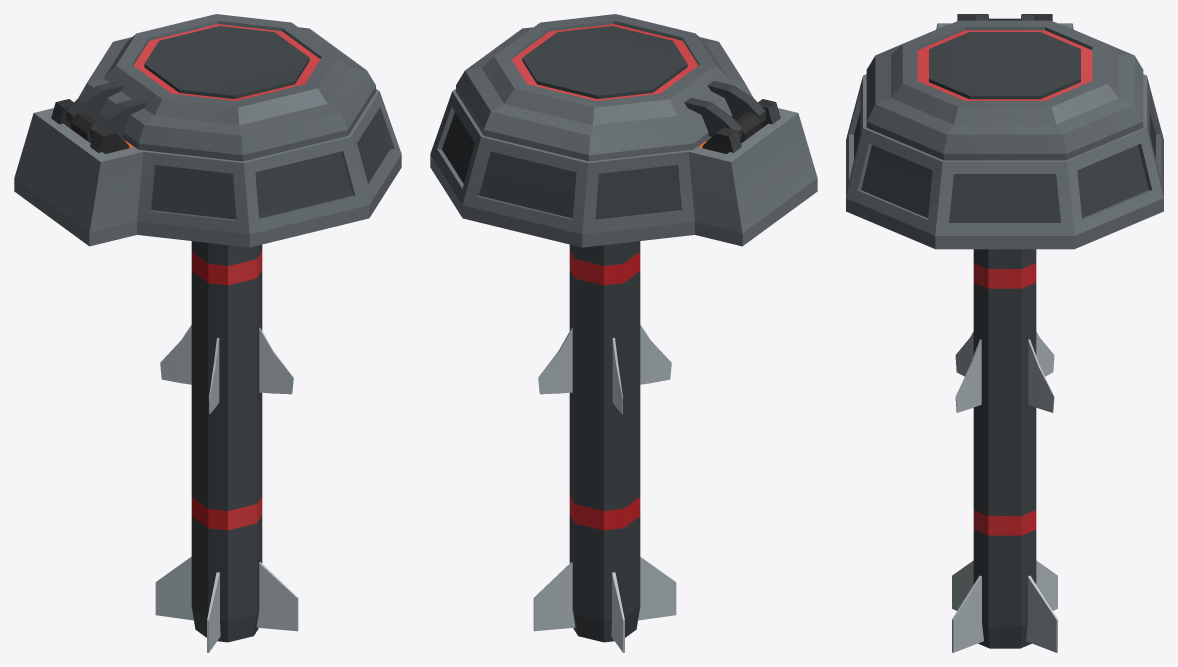
The model's file is MissileSilo.fbx.
3 views of the same model, side by side, from view 1: azimuth 30°, elevation 25°; view 2: azimuth 150°, elevation 25°; view 3: azimuth 270°, elevation 25° (orthographic).
Parts seen in each view (by area): view 1: Silo, KurwaRaketa, Hatch; view 2: Silo, KurwaRaketa, Hatch; view 3: Hatch, KurwaRaketa, Silo.
Part boxes in pixels (left/top/right/bottom): Silo: left=14, top=89, right=401, bottom=247; KurwaRaketa: left=155, top=241, right=298, bottom=652; Hatch: left=66, top=14, right=375, bottom=161; Silo: left=430, top=89, right=817, bottom=247; KurwaRaketa: left=533, top=241, right=676, bottom=652; Hatch: left=456, top=14, right=765, bottom=161; Hatch: left=866, top=14, right=1143, bottom=160; KurwaRaketa: left=952, top=249, right=1057, bottom=652; Silo: left=846, top=14, right=1163, bottom=249.
Size of the model in its own units: 200 by 344 by 173.
Materials: 1 (1 with a texture image).
